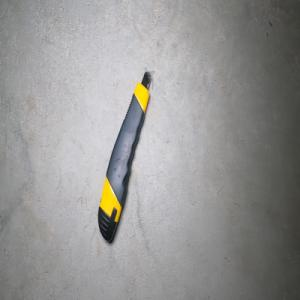Cutter: (96, 70, 152, 243)
